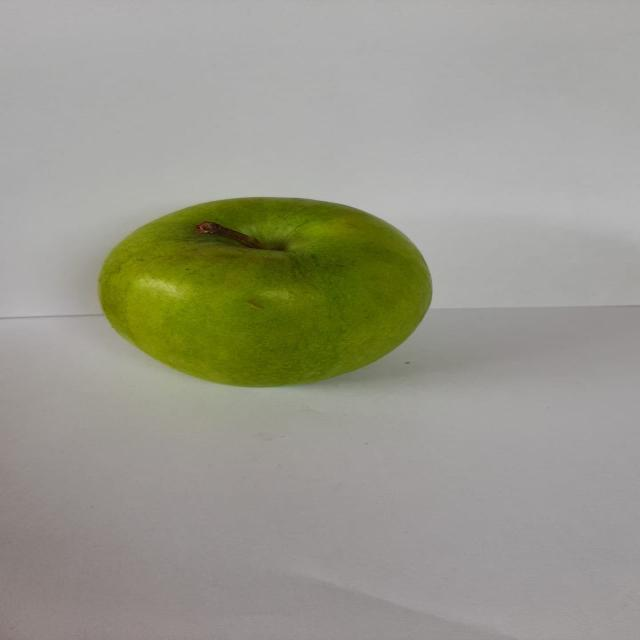50-_ripeness: (82, 191, 446, 398)
